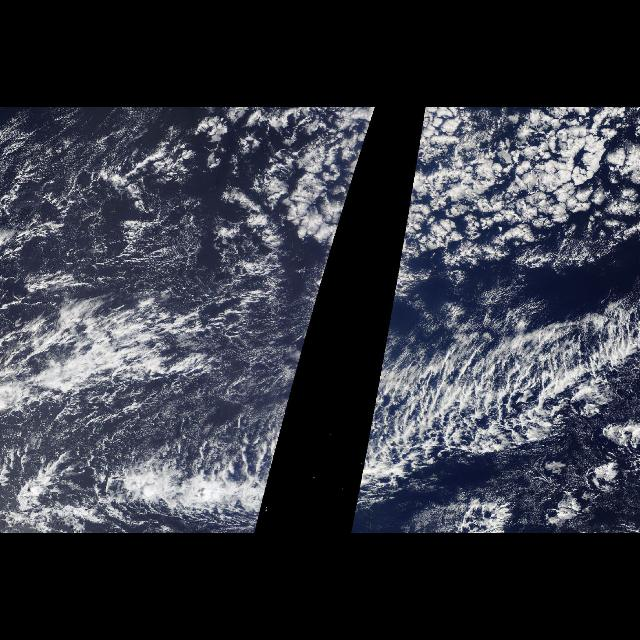Fish: (348, 300, 640, 530), (118, 300, 316, 530)
Flower: (398, 108, 638, 266), (224, 108, 378, 266)
Sugar: (3, 112, 220, 294)
